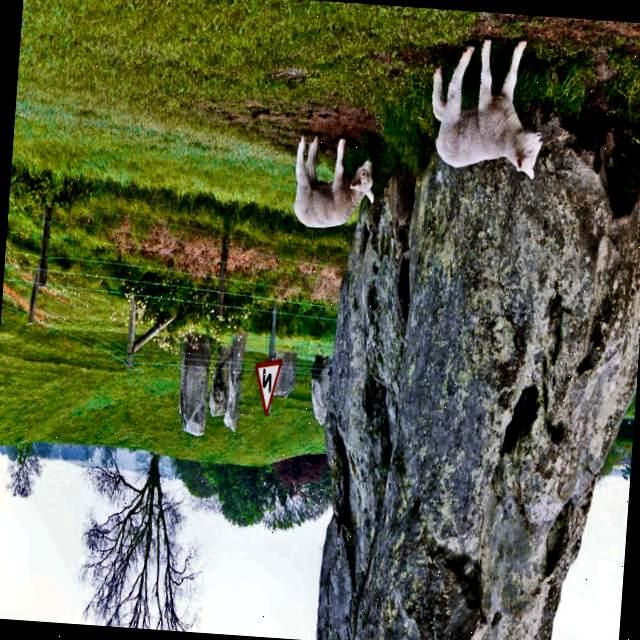sheep: (430, 39, 540, 177), (292, 137, 371, 226)
